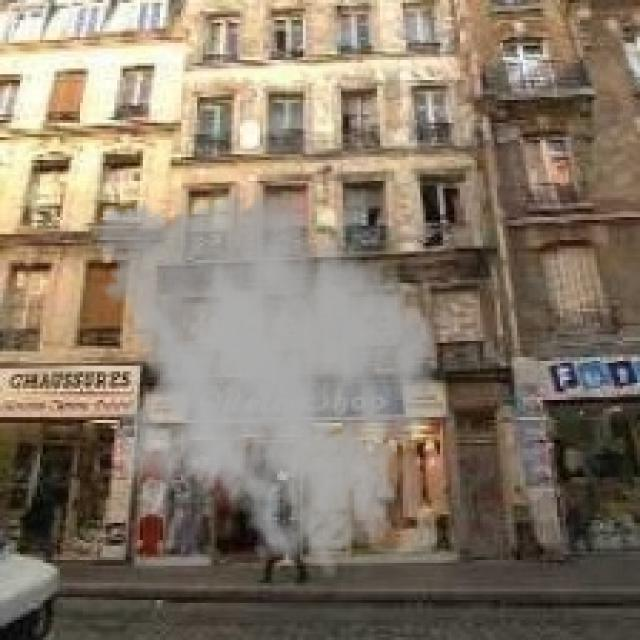smoke: (80, 180, 440, 580)
